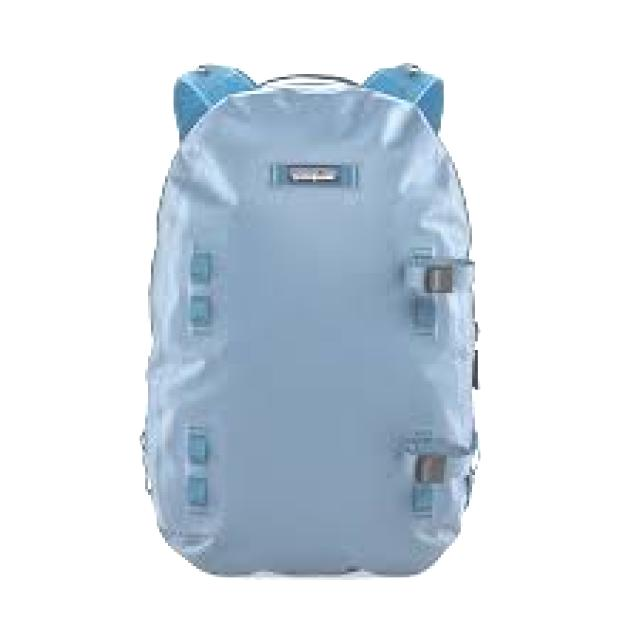backpack: (140, 61, 482, 576)
